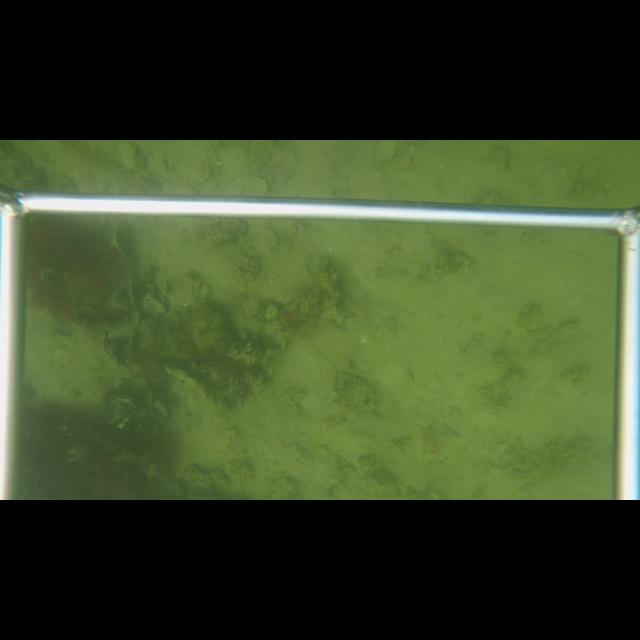Oyster-Closed: (110, 227, 128, 257), (147, 387, 153, 407)
Oyster-Open: (245, 301, 265, 319), (110, 412, 131, 429), (127, 279, 139, 306), (236, 374, 245, 389)
